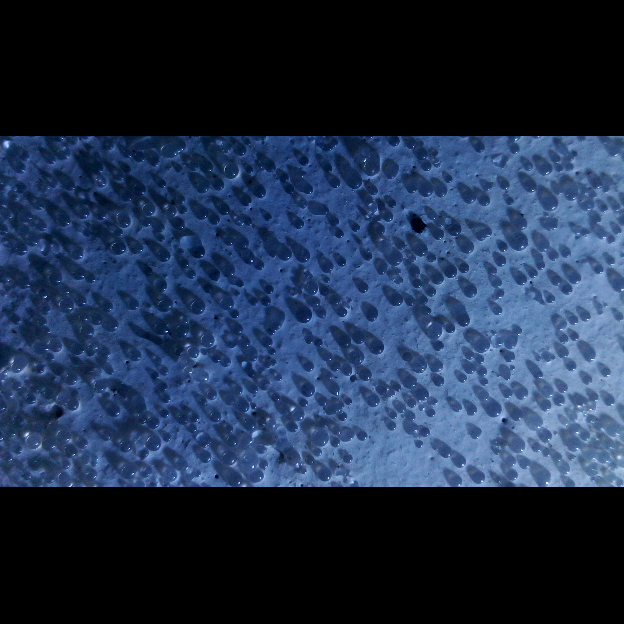GrassBeadSeg: (241, 452, 259, 471), (541, 195, 558, 211), (346, 172, 362, 189), (296, 307, 312, 323), (427, 323, 443, 339), (313, 430, 329, 446), (511, 234, 527, 250), (412, 357, 428, 373), (474, 338, 489, 353), (536, 471, 551, 486), (147, 435, 161, 451), (25, 434, 41, 448), (349, 350, 364, 364), (487, 402, 501, 417), (419, 182, 433, 197), (528, 416, 542, 431), (158, 298, 172, 312), (191, 300, 205, 314), (201, 334, 215, 348), (370, 340, 384, 354), (388, 252, 402, 266), (364, 161, 378, 175), (57, 429, 71, 443), (229, 473, 243, 487), (111, 241, 126, 254), (223, 452, 237, 465), (444, 265, 458, 278), (60, 299, 74, 312), (105, 318, 119, 331), (191, 246, 205, 259), (512, 439, 525, 453), (510, 407, 523, 421), (164, 145, 178, 158), (195, 370, 209, 383), (302, 384, 315, 397), (221, 297, 234, 310), (464, 285, 477, 298), (225, 165, 238, 178), (122, 465, 135, 478), (118, 215, 131, 228), (279, 247, 292, 260), (415, 388, 428, 401), (49, 339, 62, 352), (176, 325, 189, 338), (142, 204, 156, 216), (154, 280, 167, 292), (158, 249, 171, 261), (390, 294, 403, 306), (108, 404, 121, 416), (253, 186, 266, 198), (297, 250, 310, 262), (236, 400, 249, 412), (414, 244, 427, 256), (306, 283, 319, 295), (404, 376, 416, 389), (49, 273, 62, 285), (250, 470, 263, 482), (164, 469, 177, 481), (319, 468, 331, 481), (195, 208, 208, 220), (198, 434, 210, 447), (539, 163, 552, 175), (156, 322, 168, 335), (292, 408, 305, 420), (71, 343, 84, 355), (197, 181, 210, 193), (59, 474, 71, 487), (565, 188, 578, 200), (366, 308, 378, 321), (164, 205, 177, 217), (172, 217, 185, 229), (134, 151, 147, 163), (94, 175, 107, 187), (368, 395, 380, 407), (82, 325, 94, 337), (525, 181, 537, 193), (338, 335, 350, 347), (147, 416, 159, 428), (15, 243, 27, 255), (449, 224, 461, 236), (243, 418, 255, 430), (353, 332, 365, 344), (463, 191, 475, 203), (608, 145, 620, 157), (540, 430, 552, 442), (598, 451, 610, 463), (342, 429, 354, 441), (461, 242, 474, 253), (436, 184, 447, 197), (77, 208, 90, 219), (459, 315, 470, 327), (120, 441, 132, 452), (224, 265, 235, 277), (236, 237, 248, 248), (72, 248, 84, 259), (58, 215, 70, 226), (188, 347, 200, 358), (129, 350, 141, 361), (431, 361, 443, 372), (440, 446, 451, 458), (454, 456, 465, 468), (226, 436, 238, 447), (27, 235, 39, 246), (505, 337, 516, 349), (385, 168, 397, 179), (515, 219, 527, 230), (240, 435, 251, 447), (19, 276, 30, 288), (581, 200, 593, 211), (568, 439, 579, 451), (45, 439, 57, 450), (58, 149, 70, 160), (545, 220, 557, 231), (388, 136, 400, 147), (608, 425, 619, 437), (585, 465, 597, 476), (585, 449, 596, 461), (377, 262, 387, 275), (585, 349, 595, 362), (200, 452, 211, 463), (128, 299, 139, 310), (358, 282, 369, 293), (213, 180, 224, 191), (209, 270, 220, 281), (409, 266, 420, 277), (473, 472, 484, 483), (433, 229, 444, 240), (210, 411, 221, 422), (360, 370, 371, 381), (406, 424, 417, 435), (516, 389, 527, 400), (202, 161, 213, 172), (265, 161, 276, 172), (450, 476, 461, 487), (65, 446, 76, 457), (134, 184, 145, 195), (64, 180, 75, 191), (417, 149, 428, 160), (93, 162, 104, 173), (559, 463, 570, 474), (12, 362, 23, 373), (433, 273, 443, 285), (73, 269, 85, 279), (176, 460, 188, 470), (537, 241, 549, 251), (86, 469, 96, 481), (322, 262, 333, 272), (219, 205, 230, 215), (241, 195, 251, 206), (516, 275, 527, 285), (92, 314, 102, 325), (68, 400, 79, 410), (77, 439, 88, 449), (570, 273, 580, 284), (541, 400, 551, 411), (244, 253, 254, 264), (13, 443, 23, 454), (15, 163, 26, 173), (235, 146, 246, 156), (66, 374, 77, 384), (505, 456, 515, 467), (189, 161, 200, 171), (15, 417, 25, 428), (326, 405, 337, 415), (61, 284, 71, 295), (37, 289, 48, 299), (149, 156, 160, 166), (592, 179, 603, 189), (80, 312, 90, 323), (322, 352, 333, 362), (330, 361, 341, 371), (342, 366, 353, 376), (207, 390, 217, 400), (383, 212, 393, 222), (233, 324, 243, 334), (304, 362, 314, 372), (103, 302, 113, 312), (434, 376, 444, 386), (255, 260, 265, 270), (337, 307, 347, 317), (433, 341, 443, 351), (426, 407, 436, 417), (496, 256, 506, 266), (288, 422, 298, 432), (155, 222, 165, 232), (480, 196, 490, 206), (210, 214, 220, 224), (317, 308, 327, 318), (87, 273, 97, 283), (26, 394, 36, 404), (330, 178, 340, 188), (508, 470, 518, 480), (520, 459, 530, 469), (554, 396, 564, 406), (465, 364, 475, 374), (77, 296, 87, 306), (330, 385, 340, 395), (591, 215, 601, 225), (374, 225, 384, 235), (102, 431, 112, 441), (122, 191, 132, 201), (178, 414, 188, 424), (100, 348, 110, 358), (303, 184, 313, 194), (407, 184, 417, 194), (487, 266, 497, 276), (89, 341, 99, 351), (305, 455, 315, 465), (330, 437, 340, 447), (319, 418, 329, 428), (402, 351, 412, 361), (471, 428, 480, 439), (293, 220, 304, 229), (559, 347, 568, 358), (290, 458, 301, 467), (132, 244, 142, 253), (358, 431, 367, 441), (505, 352, 514, 362), (562, 285, 572, 294), (493, 278, 502, 288), (279, 173, 289, 182), (190, 413, 200, 422), (446, 323, 455, 333), (406, 297, 416, 306), (605, 396, 614, 406), (478, 367, 487, 377), (594, 265, 604, 274), (260, 380, 269, 390), (249, 384, 258, 394), (422, 162, 431, 172), (468, 405, 477, 415), (37, 222, 46, 232), (500, 181, 509, 191), (35, 364, 45, 373), (580, 431, 589, 441), (257, 445, 266, 455), (534, 369, 543, 379), (480, 391, 489, 401), (225, 236, 235, 245), (221, 357, 230, 367), (543, 387, 552, 397), (553, 453, 563, 462), (378, 386, 387, 396), (475, 143, 484, 153), (46, 155, 56, 164), (142, 218, 152, 227), (17, 183, 26, 193), (10, 191, 19, 201), (476, 231, 485, 241), (524, 162, 533, 172), (504, 388, 513, 398), (558, 383, 567, 393), (583, 375, 592, 385), (569, 412, 578, 422), (267, 420, 276, 430), (332, 426, 341, 436), (324, 372, 333, 382), (248, 352, 257, 362), (265, 285, 274, 294), (493, 306, 502, 315), (139, 450, 148, 459), (567, 362, 576, 371), (549, 251, 558, 260), (187, 270, 196, 279), (427, 287, 436, 296), (351, 223, 360, 232), (263, 338, 272, 347), (180, 259, 189, 268), (311, 298, 320, 307), (313, 448, 322, 457), (330, 217, 339, 226), (300, 157, 309, 166), (298, 199, 307, 208), (406, 412, 415, 421), (460, 264, 469, 273), (143, 468, 152, 477), (337, 258, 346, 267), (338, 412, 347, 421), (369, 186, 378, 195), (245, 165, 254, 174), (12, 315, 21, 324), (542, 448, 551, 457), (552, 277, 561, 286), (241, 338, 250, 347), (569, 316, 578, 325), (97, 211, 106, 220), (581, 312, 590, 321), (330, 296, 339, 305), (269, 249, 278, 258), (13, 381, 22, 390), (22, 153, 31, 162), (49, 178, 58, 187), (115, 171, 124, 180), (24, 212, 33, 221), (4, 211, 13, 220), (388, 199, 397, 208), (407, 140, 416, 149), (546, 294, 555, 303), (615, 313, 624, 322), (590, 392, 599, 401), (465, 350, 474, 359), (428, 211, 437, 220), (396, 241, 405, 250), (8, 428, 17, 437), (4, 453, 13, 462), (159, 383, 168, 392), (175, 347, 184, 356), (334, 230, 344, 238), (62, 459, 70, 469), (234, 385, 242, 395), (499, 242, 507, 252), (511, 144, 519, 154), (138, 415, 148, 423), (226, 395, 234, 405), (344, 454, 352, 463), (231, 310, 239, 319), (421, 428, 429, 437), (262, 298, 271, 306), (413, 280, 422, 288), (157, 180, 166, 188), (562, 249, 570, 258), (602, 368, 610, 377), (286, 185, 294, 194), (532, 443, 540, 452), (453, 403, 461, 412), (162, 394, 171, 402), (42, 305, 50, 314), (529, 270, 538, 278), (506, 197, 514, 206), (106, 366, 114, 375), (484, 182, 492, 191), (607, 257, 615, 266), (324, 164, 332, 173), (365, 197, 373, 206), (319, 397, 327, 406), (38, 318, 47, 326), (244, 217, 252, 226), (485, 228, 493, 237), (570, 333, 579, 341), (560, 335, 568, 344), (586, 415, 594, 424), (496, 290, 505, 298), (427, 254, 436, 262), (213, 354, 221, 363), (398, 404, 407, 412), (607, 475, 616, 483), (606, 441, 615, 449), (47, 353, 54, 363), (388, 422, 396, 430), (364, 252, 372, 260), (408, 399, 416, 407), (205, 285, 213, 293), (260, 461, 268, 469), (537, 261, 545, 269), (305, 336, 313, 344), (23, 472, 31, 480), (598, 232, 606, 240), (436, 219, 444, 227), (423, 307, 431, 315), (320, 287, 328, 295), (189, 425, 197, 433), (184, 367, 192, 375), (274, 321, 282, 329), (161, 366, 168, 375), (315, 338, 322, 347), (114, 229, 123, 236), (250, 298, 258, 305), (458, 375, 466, 382), (236, 280, 244, 287), (157, 234, 164, 242), (180, 206, 187, 214), (607, 237, 615, 244), (395, 277, 403, 284), (36, 203, 44, 210), (179, 196, 186, 204), (107, 142, 114, 150), (124, 150, 131, 158), (145, 268, 153, 275), (434, 160, 441, 168), (556, 165, 563, 173), (553, 156, 561, 163), (600, 205, 608, 212), (589, 192, 597, 199), (566, 154, 573, 162), (477, 356, 484, 364), (515, 327, 522, 335), (420, 297, 428, 304), (46, 476, 54, 483), (82, 457, 90, 464), (164, 434, 172, 441), (162, 410, 170, 417), (103, 393, 111, 400), (200, 399, 208, 406), (97, 385, 105, 392), (226, 426, 234, 433), (194, 470, 202, 477), (258, 420, 266, 427), (273, 395, 281, 402), (395, 384, 402, 392), (248, 371, 256, 378), (267, 328, 275, 335), (345, 398, 352, 405), (391, 412, 398, 419), (445, 176, 452, 183), (481, 379, 488, 386), (566, 164, 573, 171), (176, 165, 183, 172), (555, 188, 562, 195), (614, 227, 621, 234), (613, 204, 620, 211), (581, 188, 588, 195), (603, 186, 610, 193), (152, 372, 159, 379), (85, 367, 92, 374), (92, 454, 99, 461), (388, 390, 395, 397), (351, 376, 358, 383), (269, 349, 276, 356), (431, 399, 438, 406), (416, 440, 422, 448), (265, 214, 272, 220), (276, 374, 282, 381), (301, 400, 307, 407), (432, 151, 439, 157), (417, 141, 424, 147), (423, 278, 430, 284), (322, 208, 329, 214), (323, 277, 330, 283), (244, 140, 251, 146), (91, 460, 97, 467), (203, 349, 209, 356), (182, 318, 188, 325), (300, 468, 306, 474), (468, 223, 474, 229), (395, 269, 401, 275), (298, 172, 304, 178), (265, 362, 271, 368), (409, 256, 416, 261), (535, 356, 541, 361), (504, 375, 510, 380), (419, 406, 425, 411), (433, 446, 439, 451), (573, 429, 579, 434), (602, 303, 608, 308), (258, 368, 264, 373), (251, 404, 257, 409), (234, 291, 240, 296), (598, 310, 603, 315), (557, 326, 562, 331), (510, 365, 515, 370), (495, 449, 500, 454), (493, 439, 498, 444), (496, 478, 501, 483), (493, 444, 498, 449), (563, 420, 568, 425), (569, 456, 574, 460), (554, 431, 558, 435), (583, 413, 587, 417), (581, 408, 585, 412), (547, 358, 551, 362), (551, 355, 555, 359)
